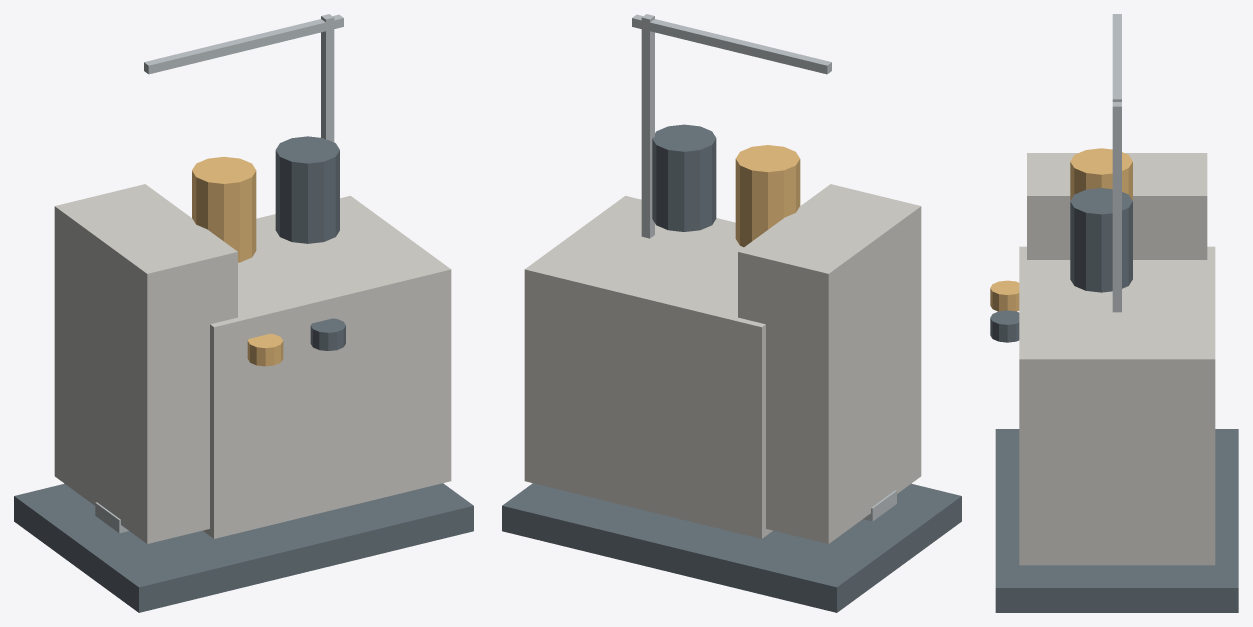
The model's file is production_overlock_machine.glb.
3 renders of one model, left to right at view 1: azimuth 30°, elevation 25°; view 2: azimuth 150°, elevation 25°; view 3: azimuth 270°, elevation 25°, orthographic. The views are drawn at different scales.
Visible parts, largest first — view 1: Prop_01_01_Overlock_01_Body_geo, Prop_02_02_Overlock_02_NeedleTower_geo, Prop_00_00_Overlock_00_BasePlate_geo, Prop_09_09_Overlock_09_ConeB_geo, Prop_08_08_Overlock_08_ConeA_geo, Prop_07_07_Overlock_07_ThreadBar_geo, Prop_06_06_Overlock_06_ThreadStand_geo, Prop_10_10_Overlock_10_TensionA_geo, Prop_11_11_Overlock_11_TensionB_geo; view 2: Prop_01_01_Overlock_01_Body_geo, Prop_02_02_Overlock_02_NeedleTower_geo, Prop_00_00_Overlock_00_BasePlate_geo, Prop_09_09_Overlock_09_ConeB_geo, Prop_08_08_Overlock_08_ConeA_geo, Prop_06_06_Overlock_06_ThreadStand_geo, Prop_07_07_Overlock_07_ThreadBar_geo; view 3: Prop_01_01_Overlock_01_Body_geo, Prop_00_00_Overlock_00_BasePlate_geo, Prop_02_02_Overlock_02_NeedleTower_geo, Prop_09_09_Overlock_09_ConeB_geo, Prop_08_08_Overlock_08_ConeA_geo, Prop_06_06_Overlock_06_ThreadStand_geo, Prop_07_07_Overlock_07_ThreadBar_geo, Prop_11_11_Overlock_11_TensionB_geo, Prop_10_10_Overlock_10_TensionA_geo.
Boxes of the visible parts, x1,y1,x2,y2 form: Prop_01_01_Overlock_01_Body_geo: [203, 195, 451, 538]; Prop_02_02_Overlock_02_NeedleTower_geo: [54, 184, 237, 543]; Prop_00_00_Overlock_00_BasePlate_geo: [14, 483, 473, 612]; Prop_09_09_Overlock_09_ConeB_geo: [275, 136, 339, 243]; Prop_08_08_Overlock_08_ConeA_geo: [192, 156, 256, 262]; Prop_07_07_Overlock_07_ThreadBar_geo: [144, 14, 343, 74]; Prop_06_06_Overlock_06_ThreadStand_geo: [321, 14, 334, 142]; Prop_10_10_Overlock_10_TensionA_geo: [247, 333, 283, 366]; Prop_11_11_Overlock_11_TensionB_geo: [310, 318, 345, 350]; Prop_01_01_Overlock_01_Body_geo: [524, 195, 772, 538]; Prop_02_02_Overlock_02_NeedleTower_geo: [738, 184, 921, 543]; Prop_00_00_Overlock_00_BasePlate_geo: [502, 483, 961, 612]; Prop_09_09_Overlock_09_ConeB_geo: [652, 124, 716, 231]; Prop_08_08_Overlock_08_ConeA_geo: [735, 145, 800, 247]; Prop_06_06_Overlock_06_ThreadStand_geo: [641, 14, 654, 238]; Prop_07_07_Overlock_07_ThreadBar_geo: [632, 14, 831, 74]; Prop_01_01_Overlock_01_Body_geo: [1019, 246, 1215, 565]; Prop_00_00_Overlock_00_BasePlate_geo: [995, 429, 1238, 612]; Prop_02_02_Overlock_02_NeedleTower_geo: [1027, 153, 1207, 259]; Prop_09_09_Overlock_09_ConeB_geo: [1070, 188, 1132, 292]; Prop_08_08_Overlock_08_ConeA_geo: [1070, 148, 1132, 200]; Prop_06_06_Overlock_06_ThreadStand_geo: [1112, 95, 1121, 312]; Prop_07_07_Overlock_07_ThreadBar_geo: [1112, 14, 1121, 115]; Prop_11_11_Overlock_11_TensionB_geo: [990, 310, 1019, 342]; Prop_10_10_Overlock_10_TensionA_geo: [990, 280, 1019, 311].
Size of the model in its own units: 0.3439 by 0.48 by 0.2271.
